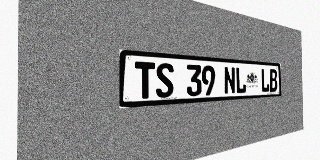3: (186, 64, 201, 96)
9: (202, 65, 215, 96)
B: (269, 69, 277, 92)
L: (235, 67, 246, 94), (261, 68, 269, 92)
N: (224, 66, 235, 94)
S: (156, 63, 174, 98)
T: (135, 61, 155, 99)
